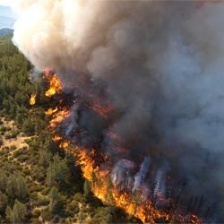fire: (48, 90, 157, 222)
smoke: (7, 2, 220, 76), (168, 81, 224, 206)
